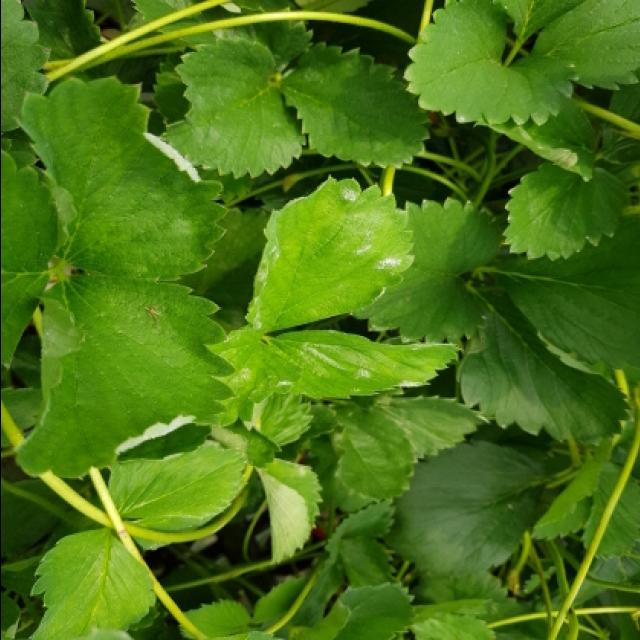Powdery Mildew Leaf: (13, 275, 236, 480), (15, 75, 228, 281), (244, 173, 415, 334), (271, 329, 461, 399), (206, 324, 300, 431), (257, 458, 323, 567)
